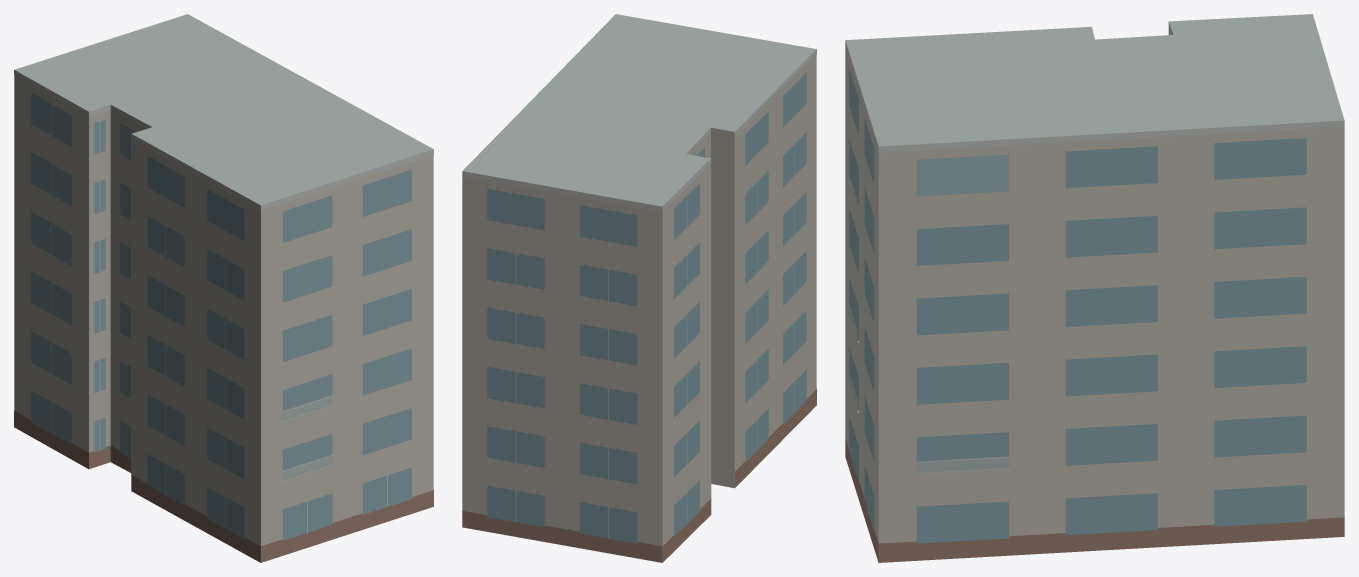
File: survey-upis-32567689.glb
3 views of the same model, side by side, from view 1: azimuth 30°, elevation 25°; view 2: azimuth 150°, elevation 25°; view 3: azimuth 270°, elevation 25° (orthographic). The views are drawn at different scales.
Visible parts, largest first — view 1: survey-upis-32567689.tmp; view 2: survey-upis-32567689.tmp; view 3: survey-upis-32567689.tmp.
Part boxes in pixels (<box>): survey-upis-32567689.tmp: <box>14,14,433,562</box>; survey-upis-32567689.tmp: <box>462,14,816,562</box>; survey-upis-32567689.tmp: <box>845,14,1344,562</box>.
Bounding box in the file's own units: 11.31 × 16.55 × 18.
